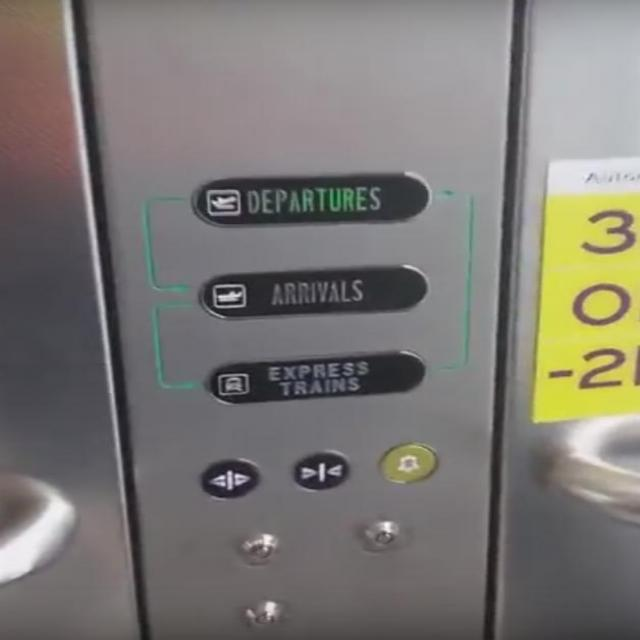alarm: (372, 438, 440, 487)
close: (286, 447, 352, 493)
keyhole: (234, 527, 284, 569), (238, 596, 288, 633), (356, 516, 406, 552)
open: (196, 454, 264, 501)
text: (194, 258, 433, 322), (185, 168, 432, 229), (202, 344, 431, 408)
